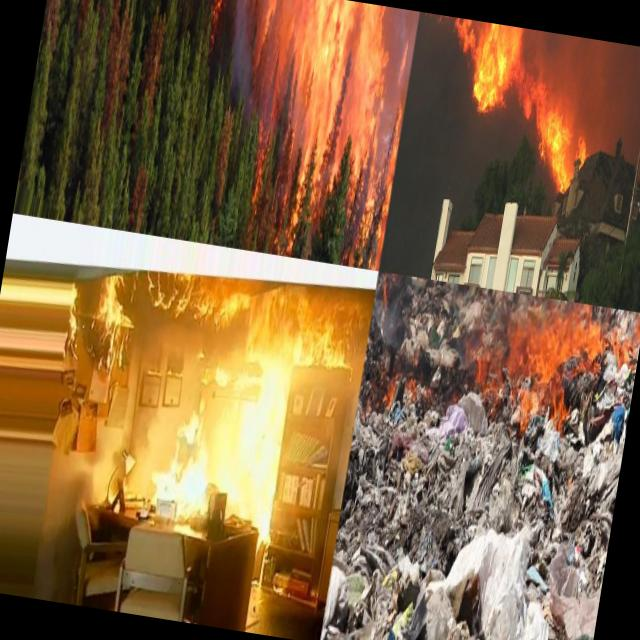fire: (233, 0, 403, 196), (144, 272, 372, 395), (469, 289, 613, 437), (142, 403, 222, 521), (532, 82, 586, 198), (462, 21, 521, 120), (431, 15, 476, 58), (511, 78, 548, 126), (572, 125, 592, 179), (424, 13, 437, 17)
smoke: (581, 39, 640, 131), (214, 0, 262, 103), (514, 28, 594, 86)
